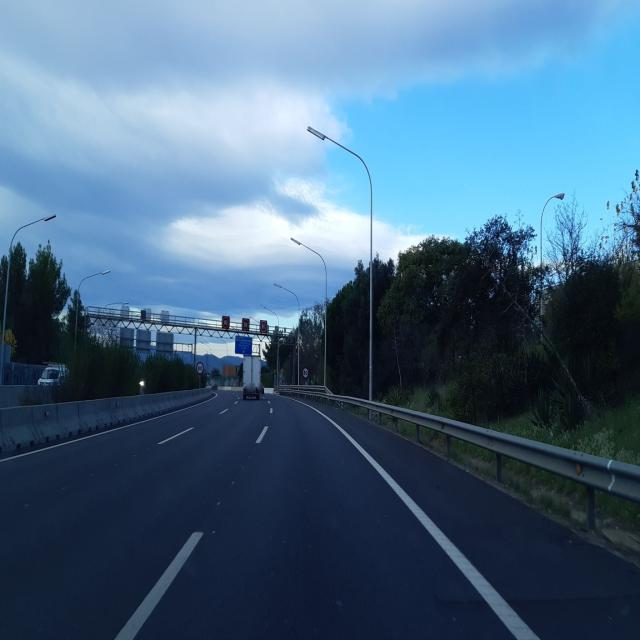car: (37, 363, 69, 388)
